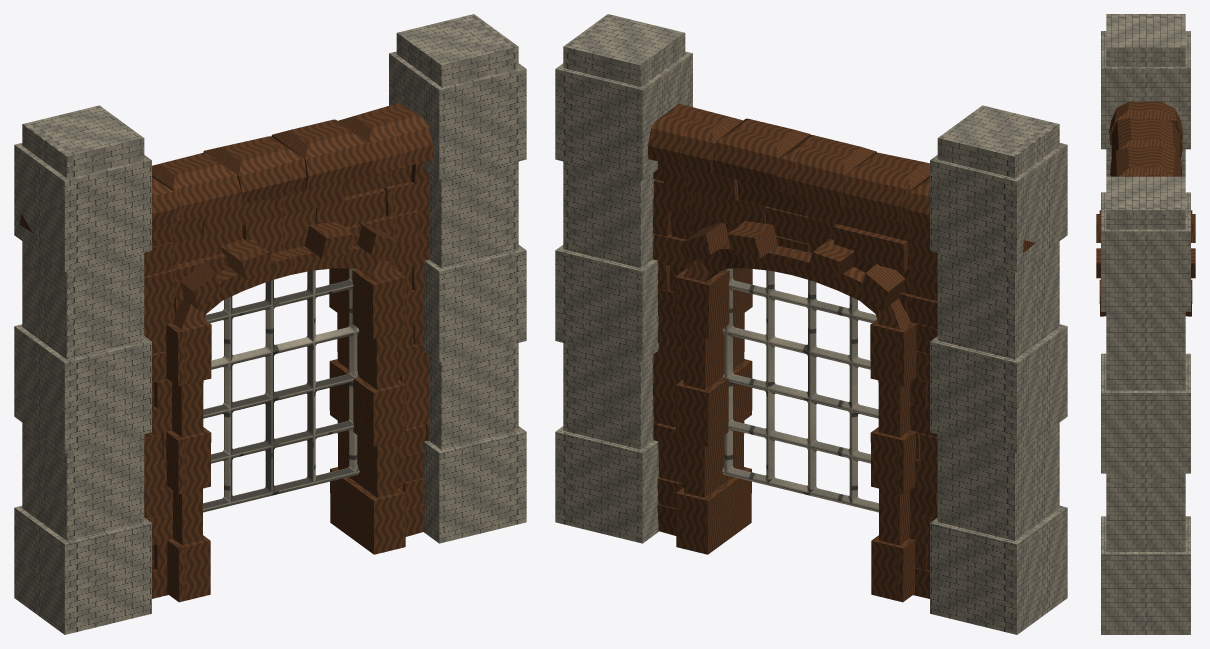
File: Valoria_ASF_SourceGate_v2.glb
3 renders of one model, left to right at view 1: azimuth 30°, elevation 25°; view 2: azimuth 150°, elevation 25°; view 3: azimuth 270°, elevation 25°, orthographic. The views are drawn at different scales.
Visible parts, largest first — view 1: Stone_Doorway, Stone_Gate_Pillar_Right, Stone_Gate_Pillar_Left, Gate; view 2: Stone_Doorway, Stone_Gate_Pillar_Right, Stone_Gate_Pillar_Left, Gate; view 3: Stone_Gate_Pillar_Left, Stone_Gate_Pillar_Right, Stone_Doorway.
Part boxes in pixels (<box>): Stone_Doorway: <box>19,102,433,602</box>; Stone_Gate_Pillar_Right: <box>14,105,151,634</box>; Stone_Gate_Pillar_Left: <box>389,14,526,543</box>; Gate: <box>203,268,359,512</box>; Stone_Doorway: <box>647,103,1035,602</box>; Stone_Gate_Pillar_Right: <box>930,105,1067,634</box>; Stone_Gate_Pillar_Left: <box>555,14,692,543</box>; Gate: <box>722,268,878,512</box>; Stone_Gate_Pillar_Left: <box>1101,176,1190,634</box>; Stone_Gate_Pillar_Right: <box>1101,14,1190,354</box>; Stone_Doorway: <box>1096,101,1195,316</box>.
Size of the model in its own units: 5.56 by 5.49 by 1.16.
Materials: 2 (2 with a texture image).
